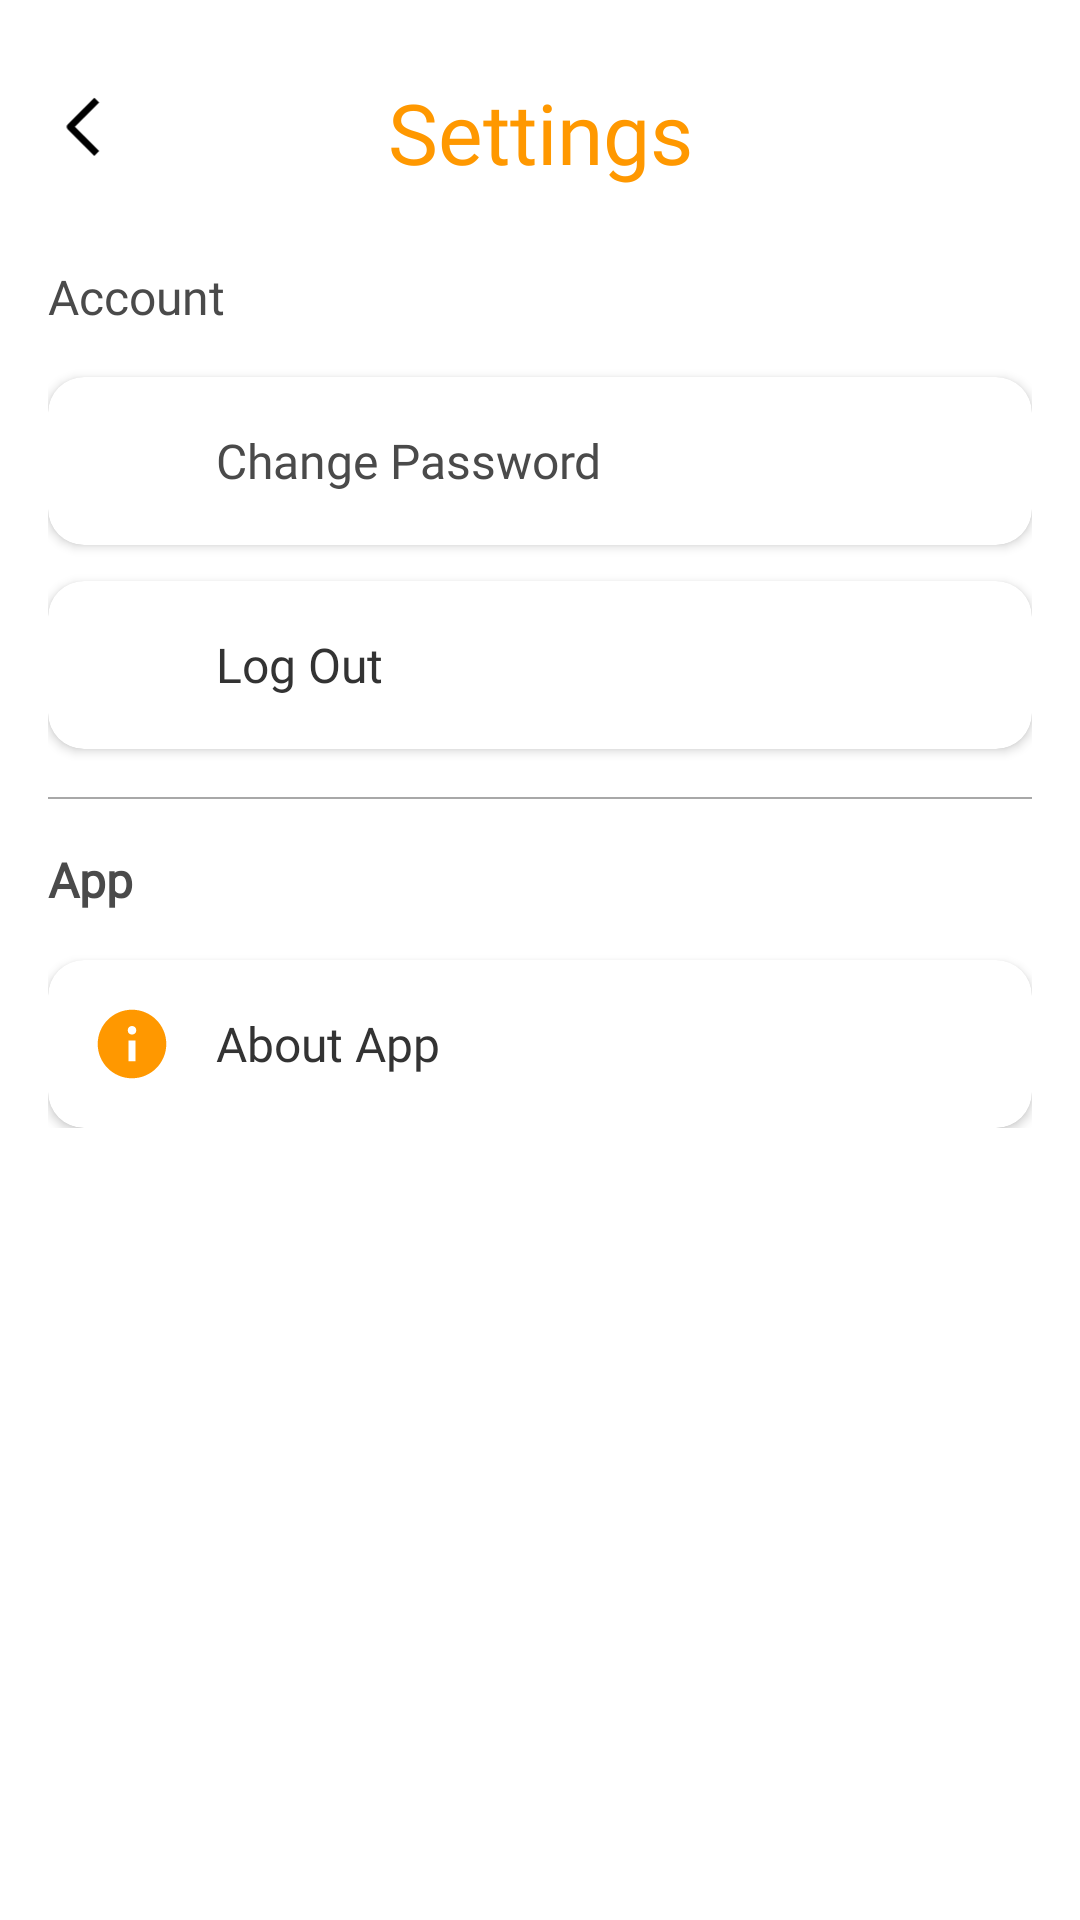

Where to tap for icons on this 1080*1920 app screen, as (x=x, y=y):
back: (x=83, y=127)
